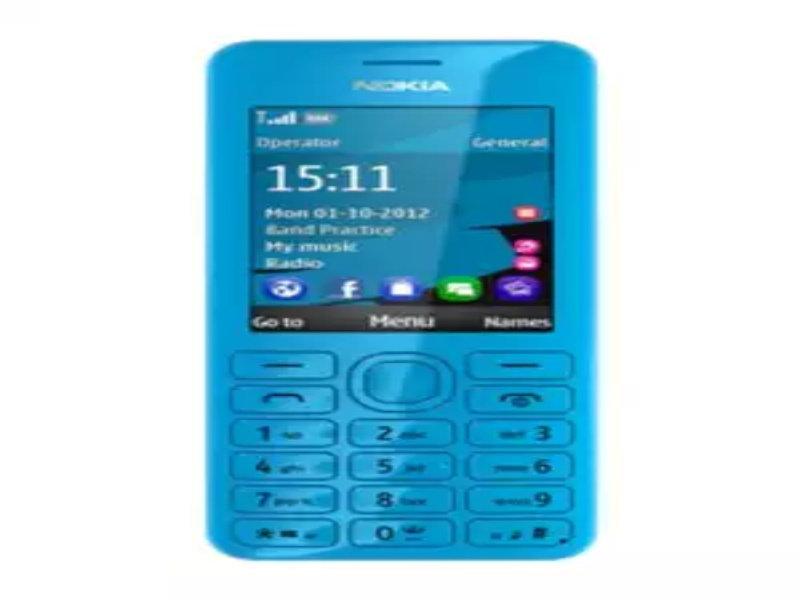mobile: (189, 29, 611, 565)
